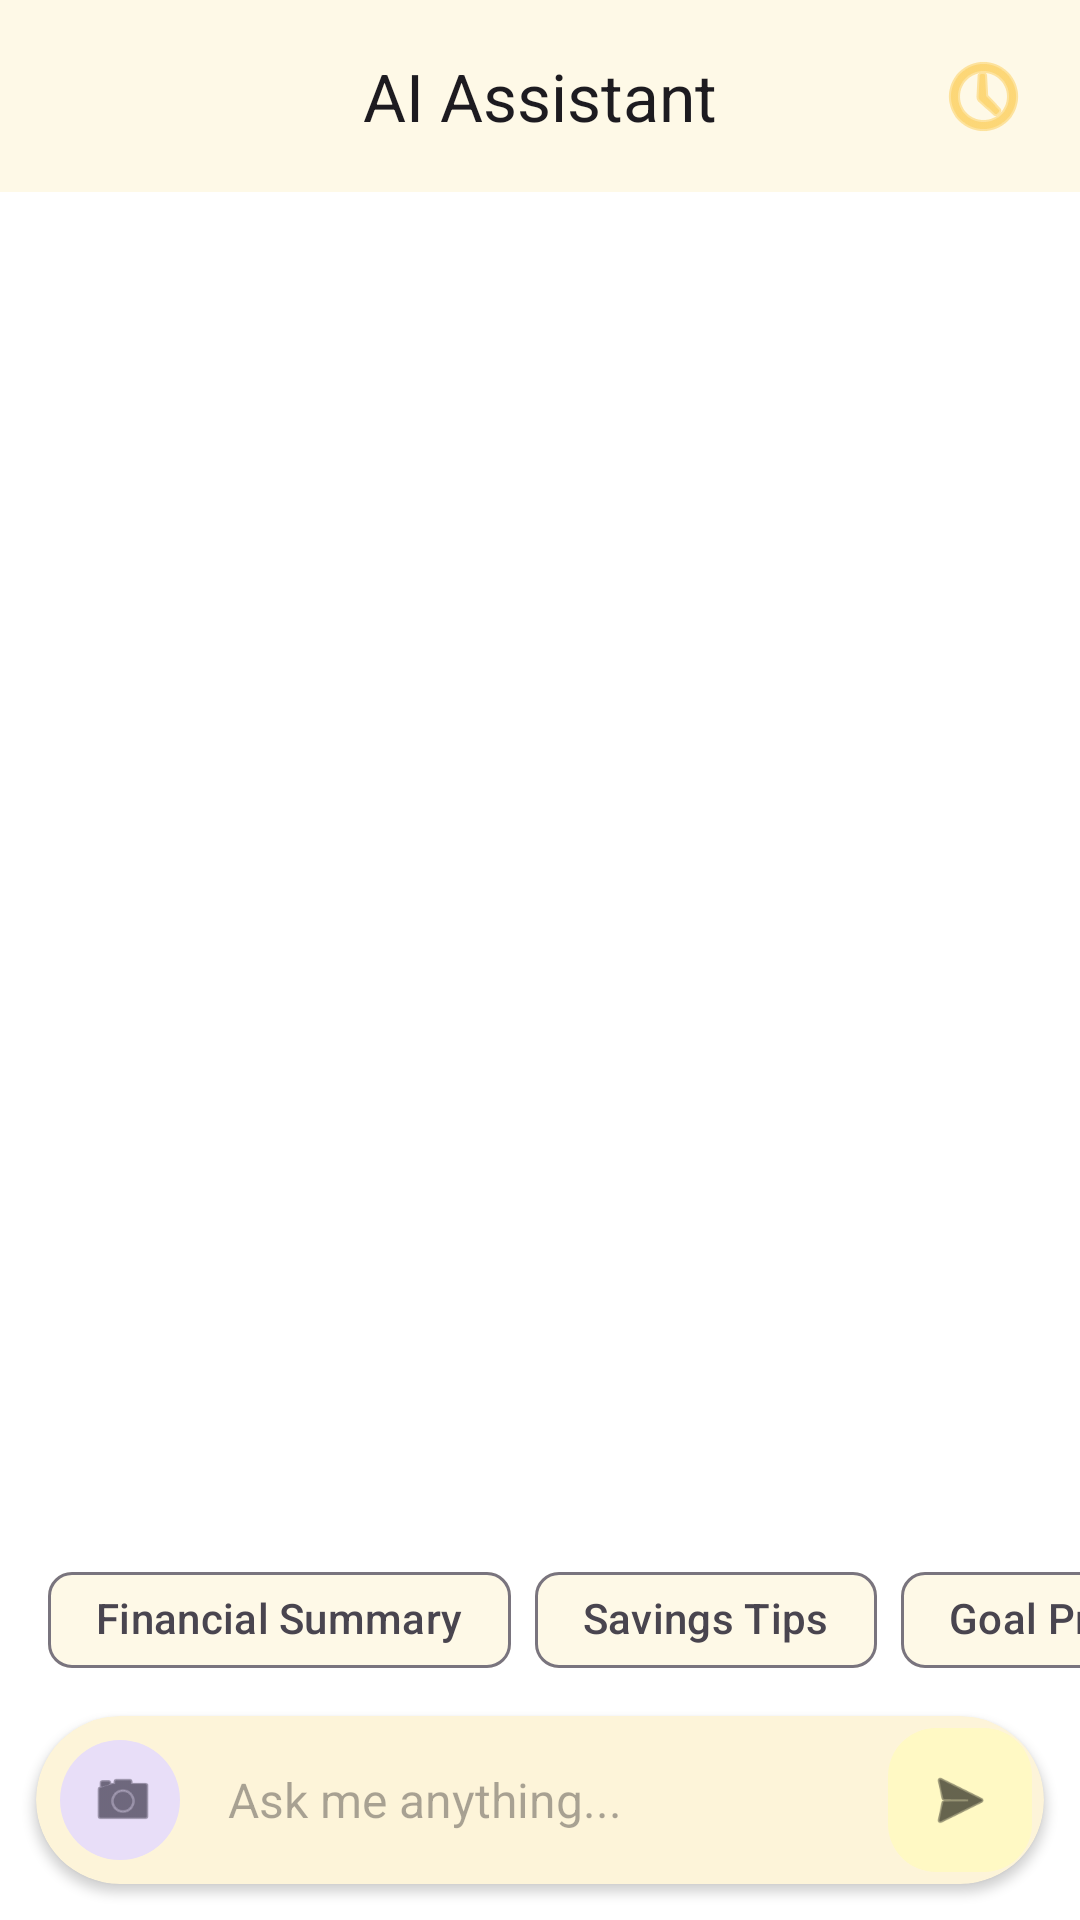

Icon bounding boxes for this 1080px x 1920px phone screenshot, format (x1, y1, x2, y2):
camera: (60, 1740, 180, 1860)
recent history: (949, 62, 1018, 131)
send: (937, 1777, 984, 1824)
